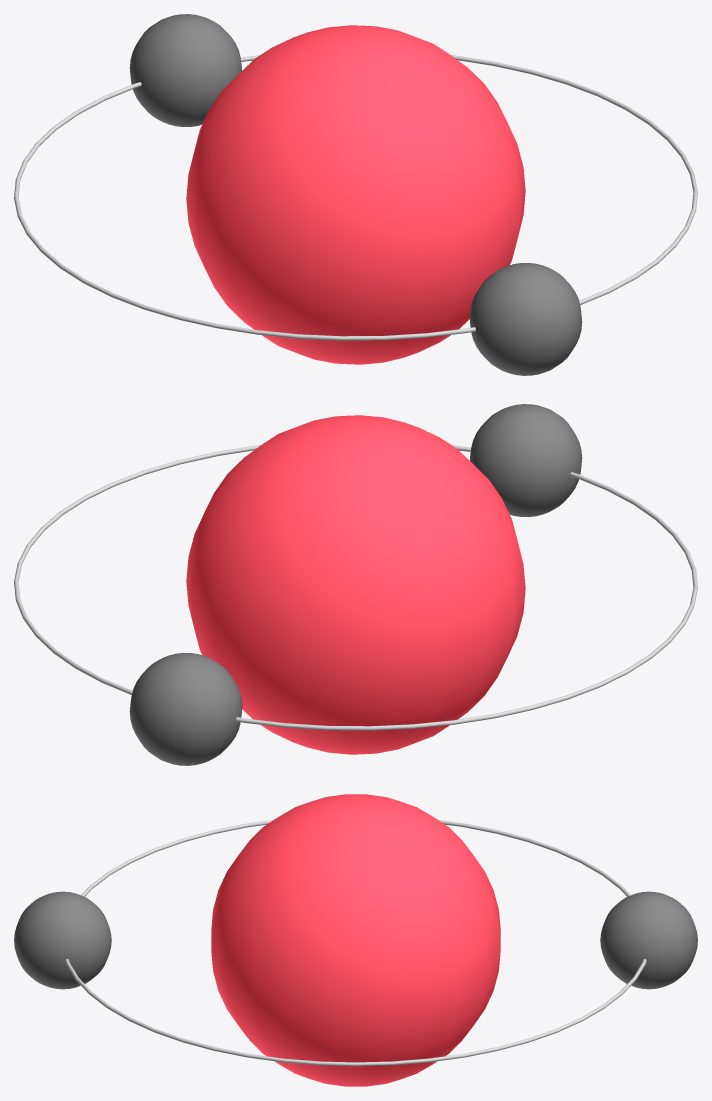
Rendered from Group 0 - Helium He.glb.
3 views of the same model, one above another, from view 1: azimuth 30°, elevation 25°; view 2: azimuth 150°, elevation 25°; view 3: azimuth 270°, elevation 25° (orthographic). The views are drawn at different scales.
Visible parts, largest first — view 1: Nucleus, Electron9, Electron4, ring; view 2: Nucleus, Electron4, Electron9, ring; view 3: Nucleus, Electron4, Electron9, ring.
Boxes of the visible parts, left/top/right/bottom form: Nucleus: left=186, top=25, right=525, bottom=364; Electron9: left=469, top=263, right=582, bottom=375; Electron4: left=129, top=14, right=242, bottom=126; ring: left=14, top=55, right=697, bottom=340; Nucleus: left=186, top=415, right=525, bottom=754; Electron4: left=129, top=653, right=242, bottom=765; Electron9: left=469, top=404, right=582, bottom=516; ring: left=14, top=445, right=697, bottom=730; Nucleus: left=211, top=794, right=500, bottom=1086; Electron4: left=600, top=891, right=697, bottom=989; Electron9: left=14, top=891, right=111, bottom=989; ring: left=65, top=820, right=646, bottom=1066.
Size of the model in its own units: 0.0604 by 0.03 by 0.07.
